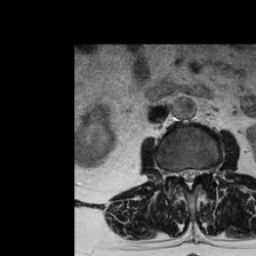CCS_normal: (185, 162, 192, 195)
LFS_stenosis: (200, 162, 207, 181)
LLS_normal: (192, 163, 199, 184)
RFS_stenosis: (170, 162, 178, 182)
RLS_normal: (178, 162, 185, 184)
